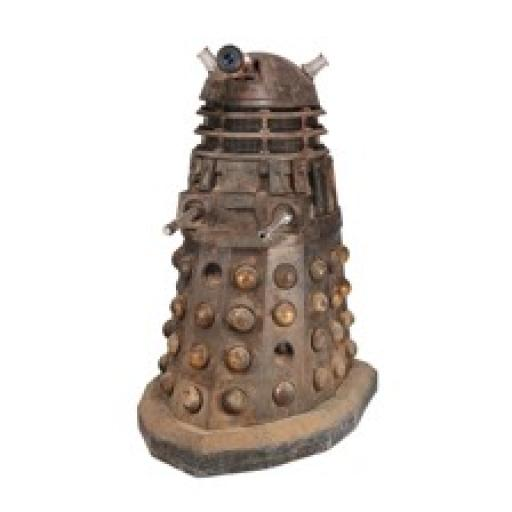dalek: (128, 38, 381, 480)
